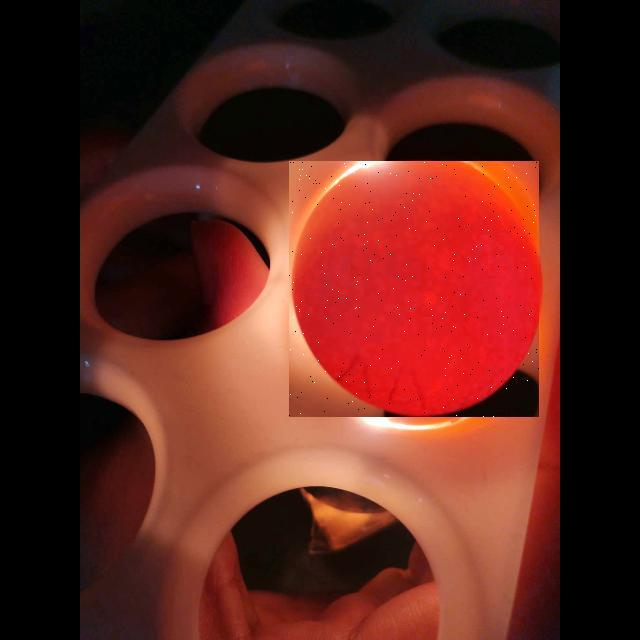Infertile: (289, 161, 539, 417)
